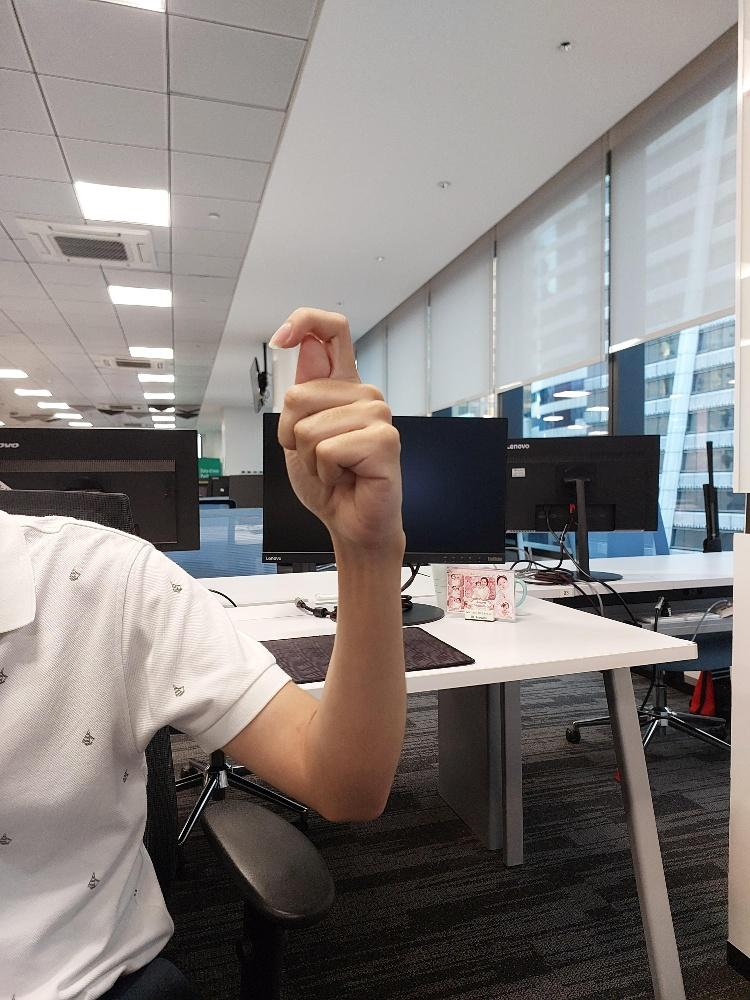t: (266, 299, 406, 551)
